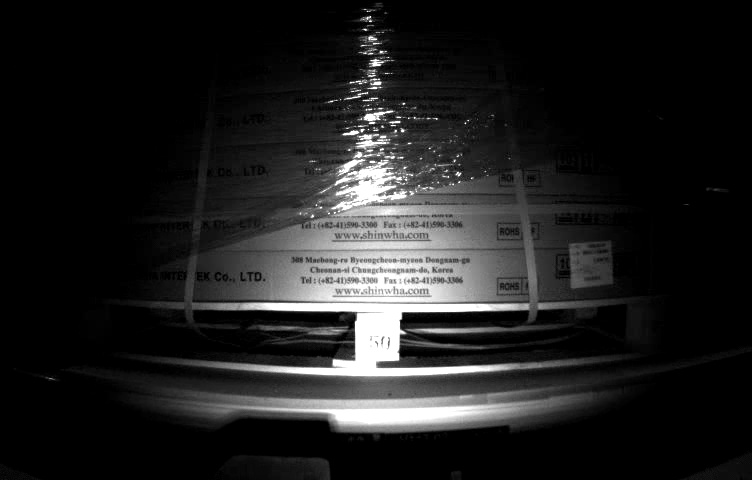True Barcode: (565, 240, 615, 289)
